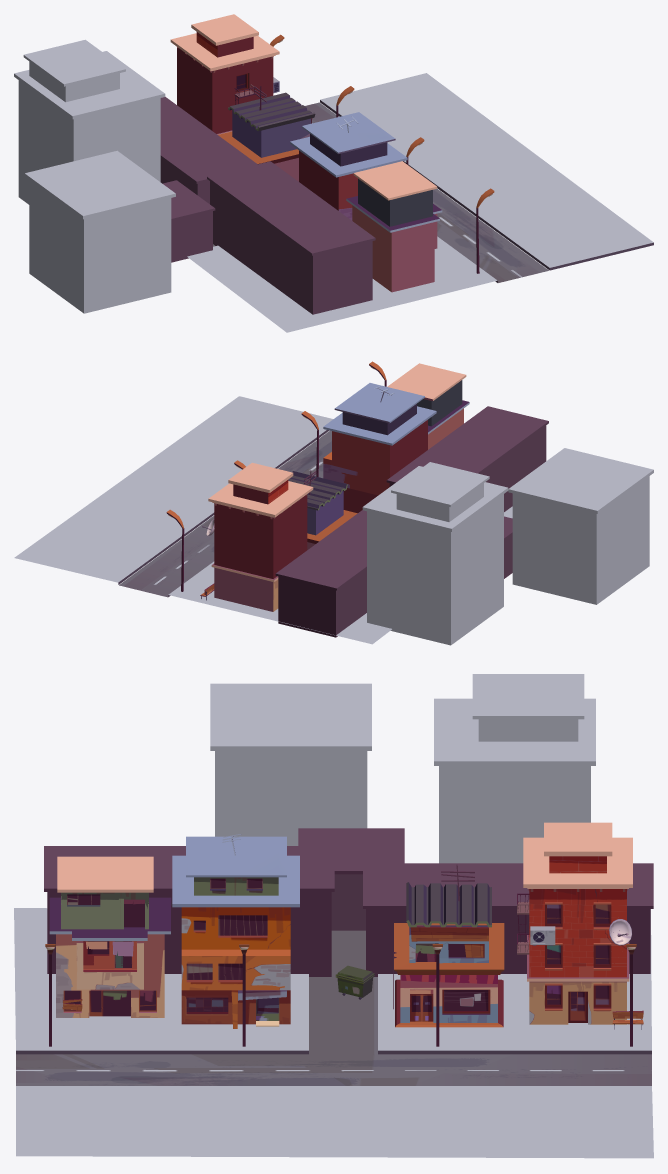
File: City.fbx
The picture shows the model from 3 angles, top to bottom: view 1: azimuth 30°, elevation 25°; view 2: azimuth 150°, elevation 25°; view 3: azimuth 270°, elevation 25°; orthographic projection. The views are drawn at different scales.
Parts seen in each view (by area): view 1: Cube.011, Plane.003, Plane.002, 1.001, 4.001, 3.001, 2.001, Lights.001; view 2: Cube.011, Plane.003, 1.001, 3.001, Plane.002, 4.001, 2.001, Lights.001; view 3: Cube.011, Plane.002, Plane.003, 3.001, 1.001, 4.001, 2.001, Lights.001, Garbage.001.
Boxes of the visible parts, x1,y1,x2,y2 form: Cube.011: [14, 39, 375, 314]; Plane.003: [320, 73, 653, 270]; Plane.002: [187, 102, 548, 332]; 1.001: [170, 14, 279, 134]; 4.001: [346, 161, 442, 292]; 3.001: [290, 112, 407, 220]; 2.001: [218, 86, 315, 181]; Lights.001: [270, 34, 494, 273]; Cube.011: [275, 406, 653, 645]; Plane.003: [14, 396, 333, 584]; 1.001: [202, 462, 313, 611]; 3.001: [323, 383, 436, 513]; Plane.002: [119, 430, 512, 644]; 4.001: [387, 363, 469, 449]; 2.001: [288, 470, 357, 549]; Lights.001: [166, 361, 386, 591]; Cube.011: [44, 674, 653, 976]; Plane.002: [14, 908, 651, 1085]; Plane.003: [16, 1086, 653, 1158]; 3.001: [172, 834, 299, 1028]; 1.001: [517, 822, 632, 1024]; 4.001: [49, 856, 171, 1017]; 2.001: [393, 864, 504, 1027]; Lights.001: [45, 944, 636, 1046]; Garbage.001: [335, 965, 374, 999].
Size of the model in its own units: 6860 by 1870 by 5455.
